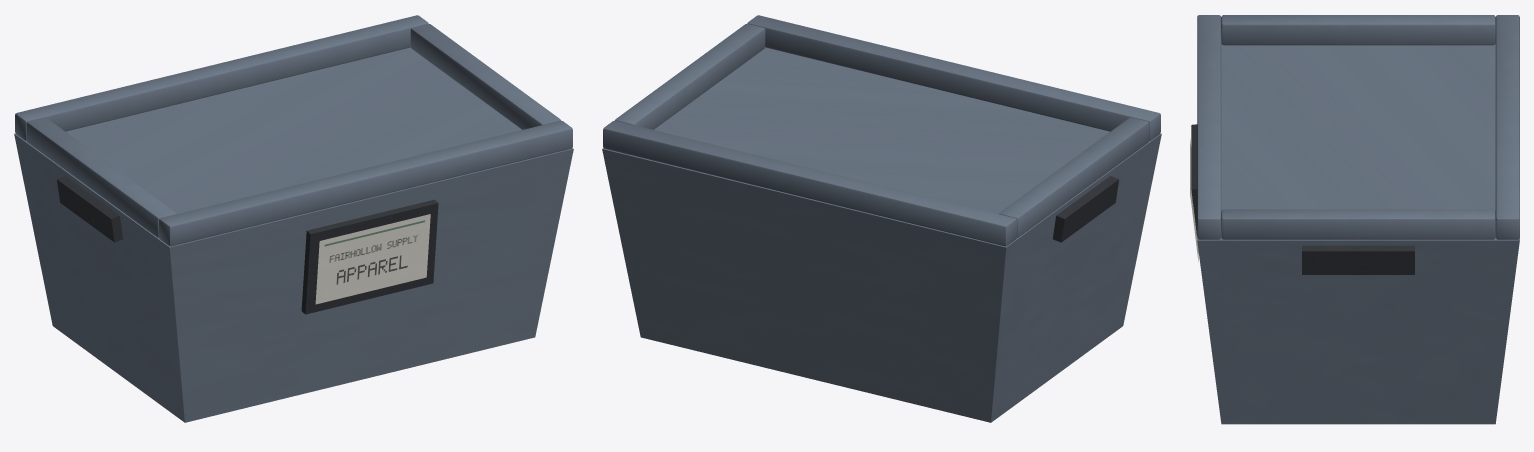
The model's file is storage_tote_slate.glb.
3 renders of one model, left to right at view 1: azimuth 30°, elevation 25°; view 2: azimuth 150°, elevation 25°; view 3: azimuth 270°, elevation 25°, orthographic. The views are drawn at different scales.
Visible parts, largest first — view 1: Tote_Body, Rim_F, Rim_B, Label_Card, Rim_L, Rim_R, Label_Holder, Grip_L; view 2: Tote_Body, Rim_B, Rim_F, Rim_L, Rim_R, Grip_L; view 3: Tote_Body, Rim_R, Rim_L, Rim_B, Rim_F, Grip_R, Label_Holder.
Part boxes in pixels (x1=…): Tote_Body: x1=14, y1=47, x2=573, y2=422; Rim_F: x1=159, y1=120, x2=572, y2=246; Rim_B: x1=15, y1=15, x2=428, y2=140; Label_Card: x1=315, y1=214, x2=430, y2=304; Rim_L: x1=26, y1=117, x2=176, y2=237; Rim_R: x1=410, y1=24, x2=560, y2=129; Label_Holder: x1=301, y1=199, x2=438, y2=314; Grip_L: x1=57, y1=176, x2=123, y2=242; Tote_Body: x1=602, y1=47, x2=1161, y2=422; Rim_B: x1=603, y1=120, x2=1016, y2=246; Rim_F: x1=747, y1=15, x2=1160, y2=140; Rim_L: x1=999, y1=117, x2=1149, y2=237; Rim_R: x1=615, y1=24, x2=765, y2=129; Grip_L: x1=1052, y1=176, x2=1118, y2=242; Tote_Body: x1=1197, y1=43, x2=1519, y2=424; Rim_R: x1=1221, y1=209, x2=1495, y2=239; Rim_L: x1=1221, y1=15, x2=1495, y2=45; Rim_B: x1=1495, y1=15, x2=1519, y2=239; Rim_F: x1=1197, y1=15, x2=1221, y2=239; Grip_R: x1=1302, y1=245, x2=1414, y2=274; Label_Holder: x1=1191, y1=124, x2=1197, y2=236.
Bounding box in the file's own units: 0.6235 × 0.3 × 0.4088.
Materials: 4 (3 with a texture image).
